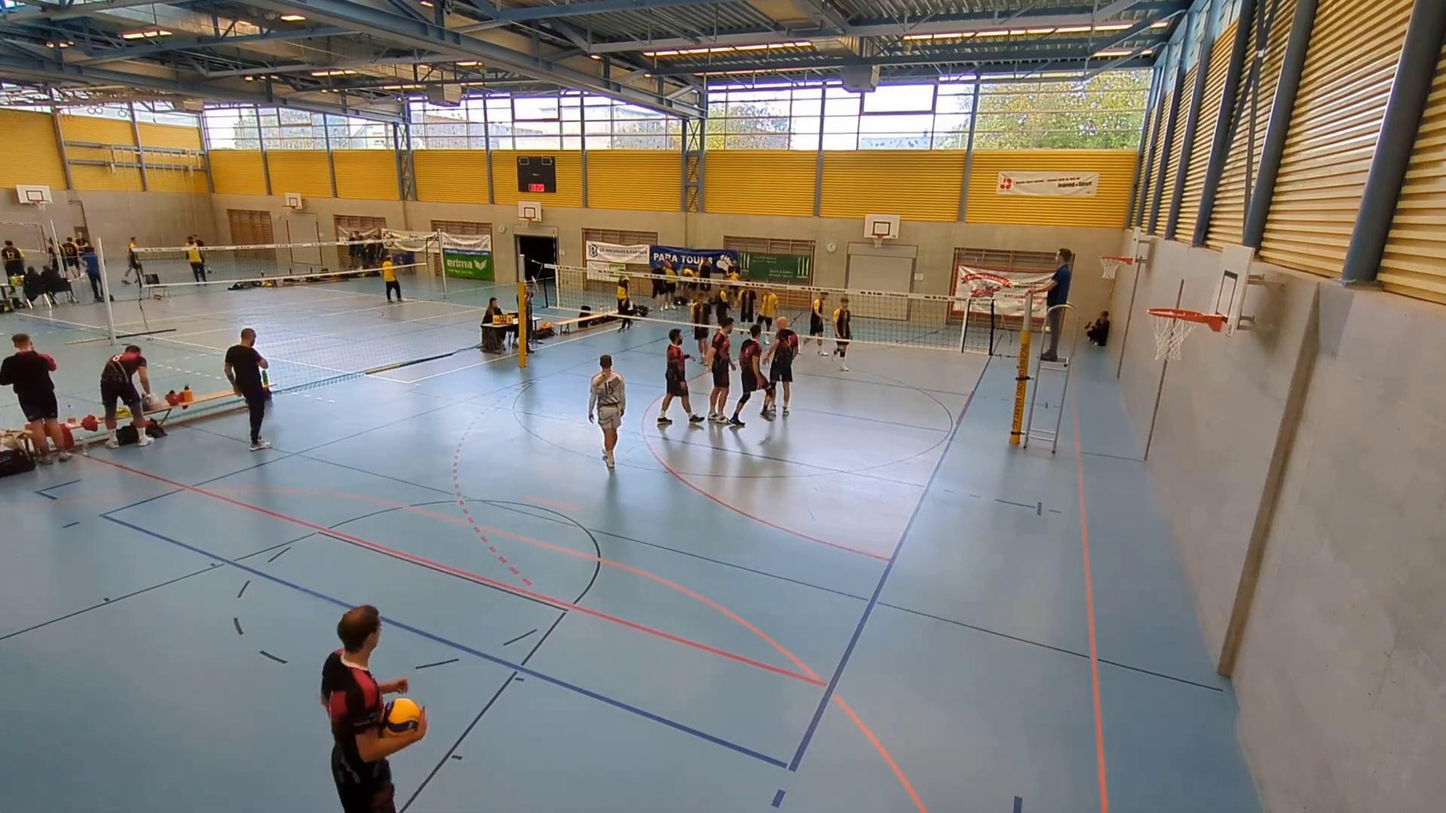Player: (319, 602, 429, 812), (656, 329, 703, 428), (726, 327, 769, 427), (587, 355, 625, 468), (700, 324, 737, 427), (766, 318, 798, 419), (833, 299, 854, 373), (715, 286, 737, 349), (807, 291, 828, 356), (690, 294, 711, 358), (738, 285, 761, 339), (760, 289, 779, 338)
ball: (381, 696, 423, 729)
